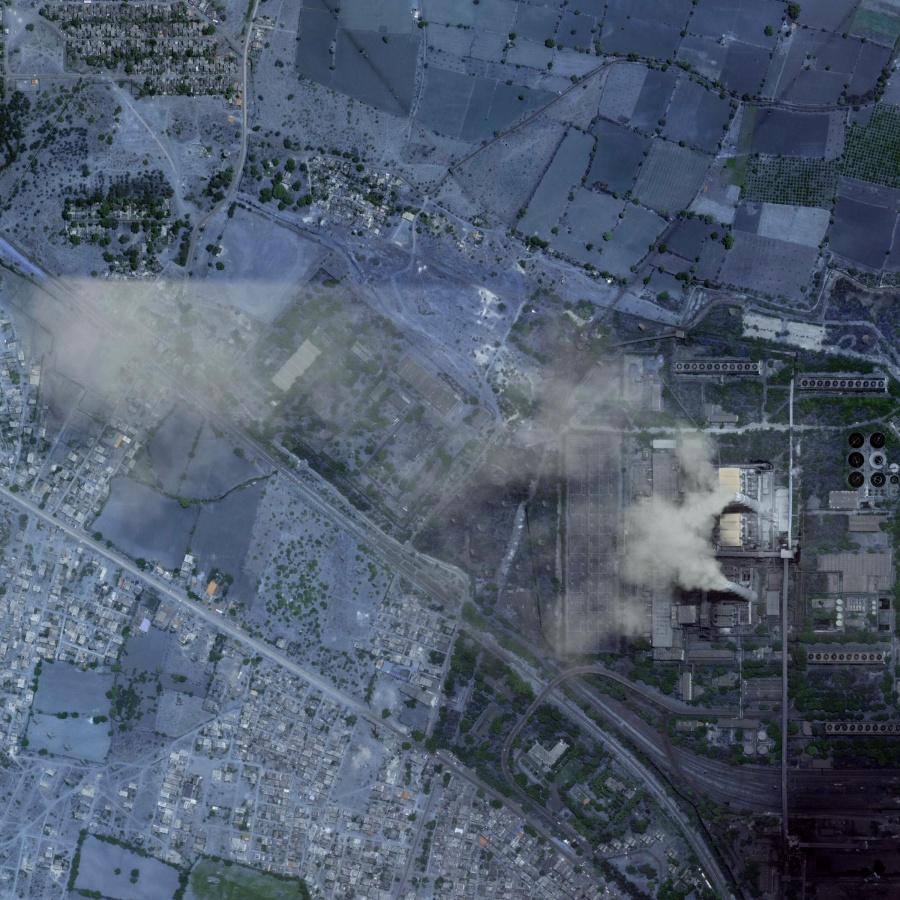PowerPlant: (568, 352, 840, 672)
